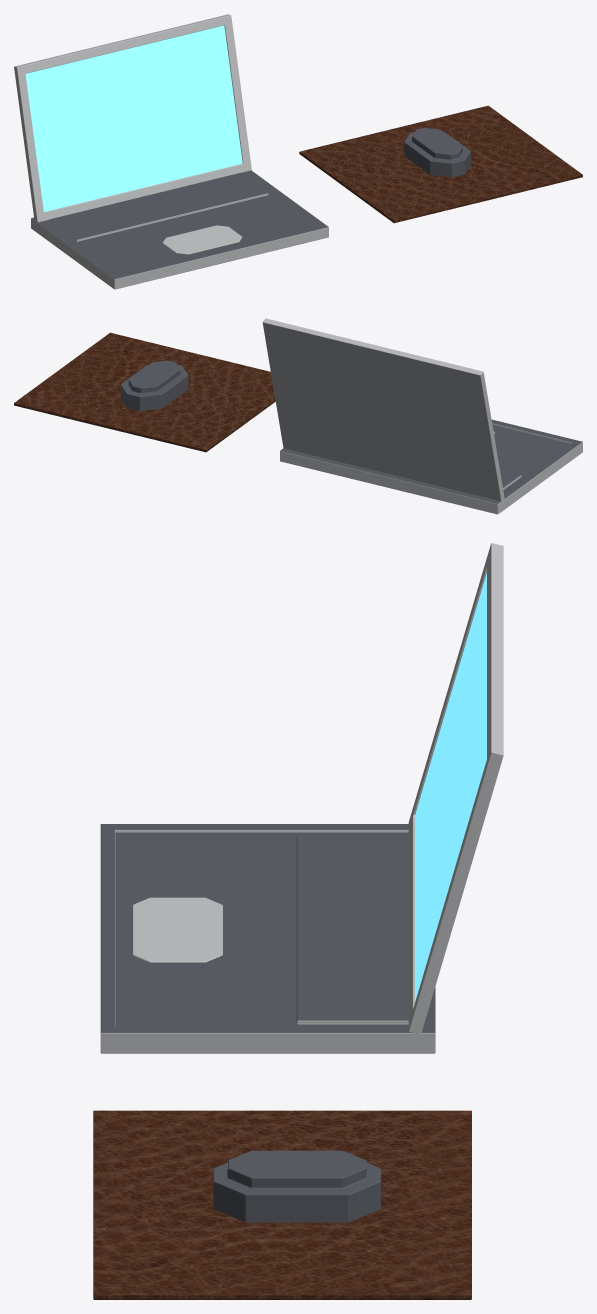
File: laptop_setup.glb
3 views of the same model, one above another, from view 1: azimuth 30°, elevation 25°; view 2: azimuth 150°, elevation 25°; view 3: azimuth 270°, elevation 25° (orthographic). The views are drawn at different scales.
Visible parts, largest first — view 1: Laptop_Setup; view 2: Laptop_Setup; view 3: Laptop_Setup.
Boxes of the visible parts, x1=… form: Laptop_Setup: x1=14, y1=14, x2=582, y2=289; Laptop_Setup: x1=14, y1=318, x2=582, y2=514; Laptop_Setup: x1=93, y1=543, x2=503, y2=1299.
Bounding box in the file's own units: 0.888 × 0.2744 × 0.3381.
Materials: 4 (1 with a texture image).
